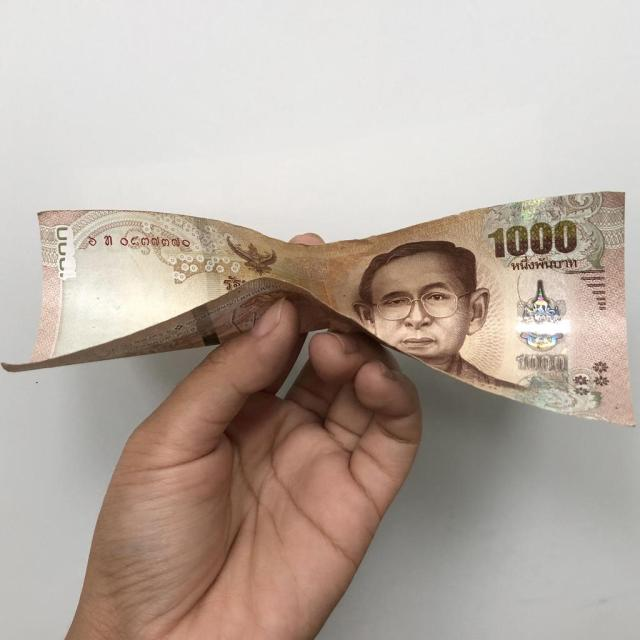THAI1000: (3, 192, 633, 425)
